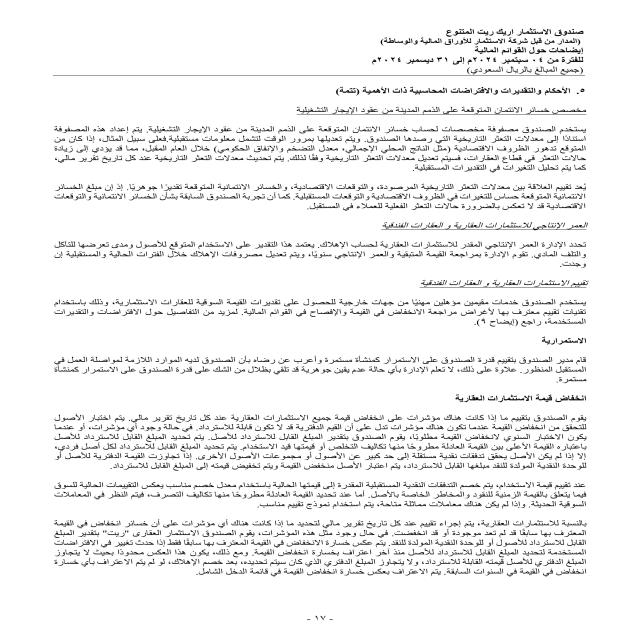notes: (467, 46, 585, 56)
text: (32, 101, 619, 584)
